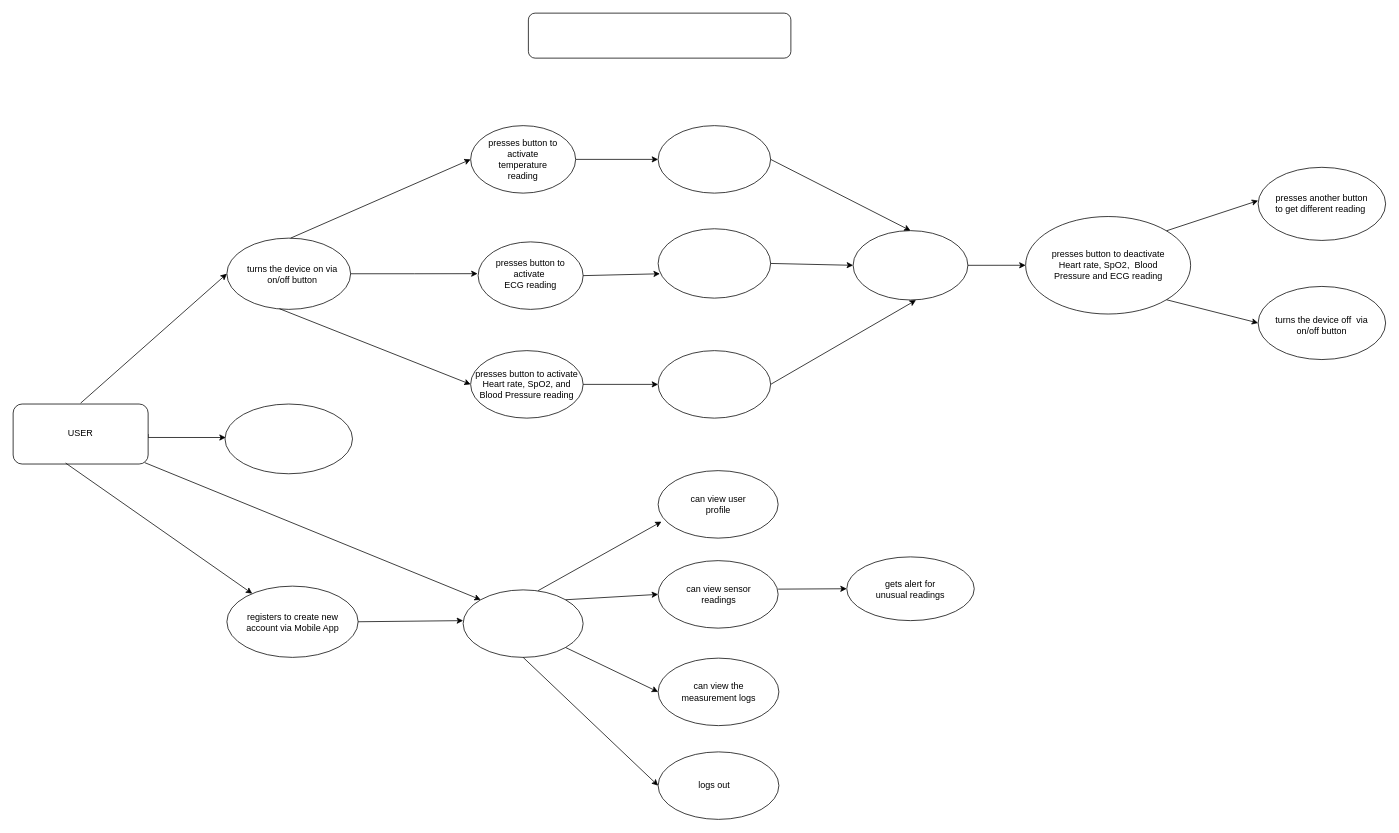
Some shapes in this 1399 by 833 pixel diagram are drawn without their labels. Here are the shapes that lost their labels. From the top down, the centre of each, then its label:
At pixel 659 35: "SMART VITALS".
At pixel 714 159: "places the temperature on the mouth".
At pixel 714 263: "places the ECG patch".
At pixel 910 265: "views the reading via OLED".
At pixel 714 384: "places the finger on sensor".
At pixel 288 438: "can charge the battery via USB cable".
At pixel 522 623: "Logs in via Mobile App".
